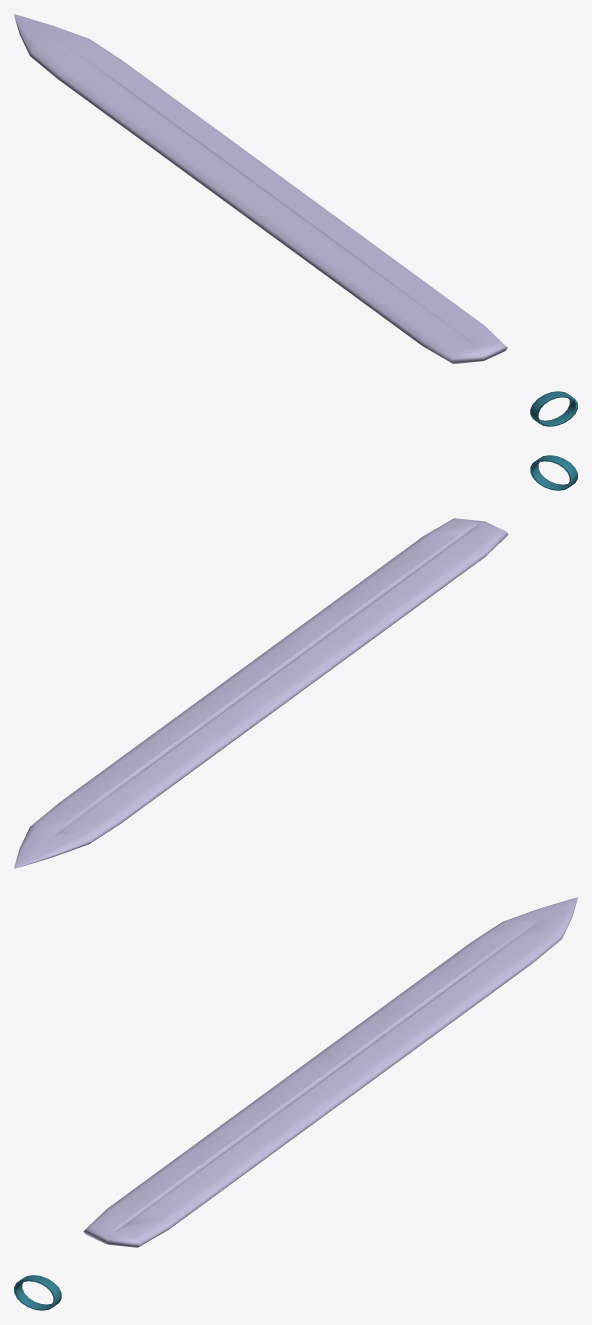
The model's file is BLOB_HOLDER.FBX.
3 renders of one model, top to bottom at view 1: azimuth 30°, elevation 25°; view 2: azimuth 150°, elevation 25°; view 3: azimuth 330°, elevation 25°, orthographic.
Parts seen in each view (by area): view 1: Box01, Tube01; view 2: Box01, Tube01; view 3: Box01, Tube01.
Part boxes in pixels (left/top/right/bottom): Box01: left=14, top=14, right=507, bottom=363; Tube01: left=530, top=391, right=577, bottom=426; Box01: left=14, top=518, right=508, bottom=868; Tube01: left=530, top=455, right=577, bottom=490; Box01: left=83, top=897, right=577, bottom=1247; Tube01: left=14, top=1275, right=61, bottom=1310.
Bounding box in the file's own units: 0.6238 × 0.2668 × 8.79.
